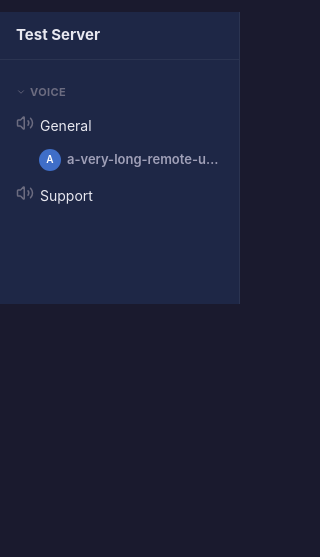
ChannelSidebar voice media presence › shows permission-gated voice actions for an equal or higher role
Right-click the text "a-very-long-remote-username" at (146, 160), box [67,150,224,169]
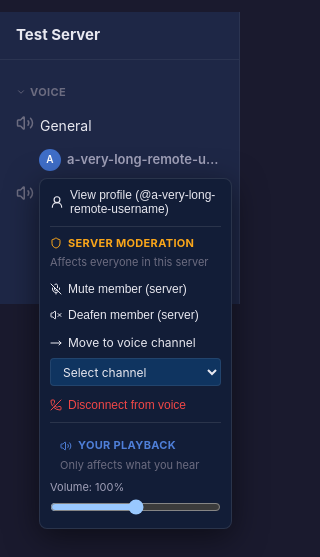
Check: the text "Server moderation" is shown, box [40,230,204,251]
Check: the text "Mute member (server)" is shown, box [50,282,187,296]
Check: the text "Deafen member (server)" is shown, box [50,308,199,322]
